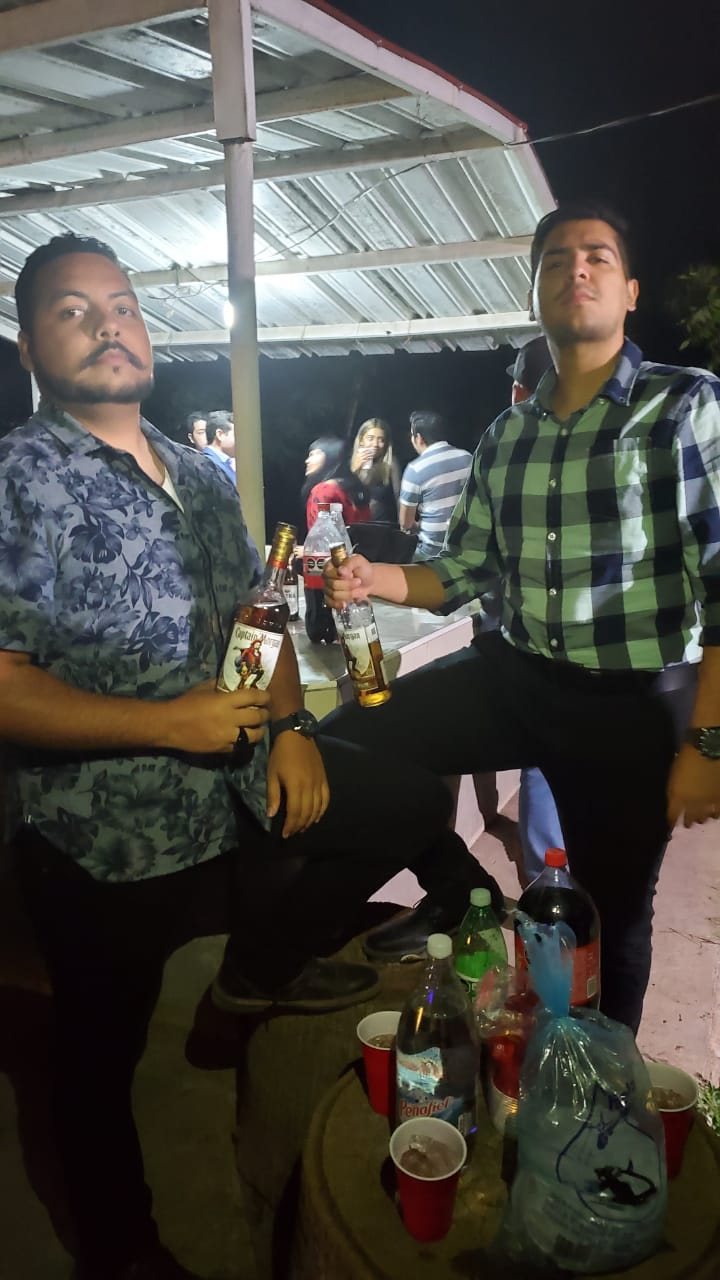Yoshi: (1, 207, 356, 836)
